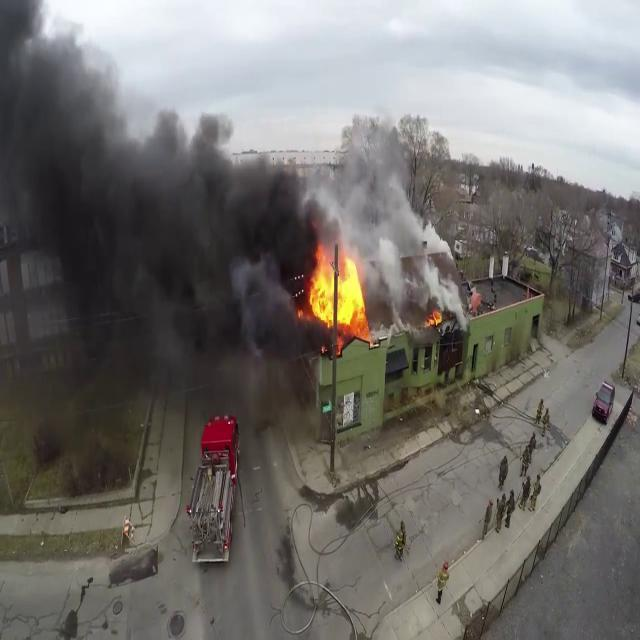Fire: (302, 237, 369, 339)
Smoke: (0, 3, 304, 476), (318, 91, 459, 313)
